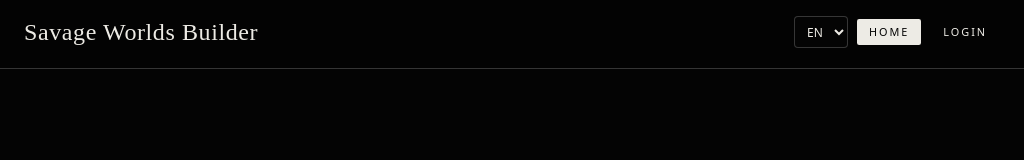
it: AppShell › changes the interface language and persists the selection
The image size is (1024, 160).
Step 1. Select "PL" in the dropdown named "language" → coordinates (821, 32), box x1=794 y1=16 x2=848 y2=48
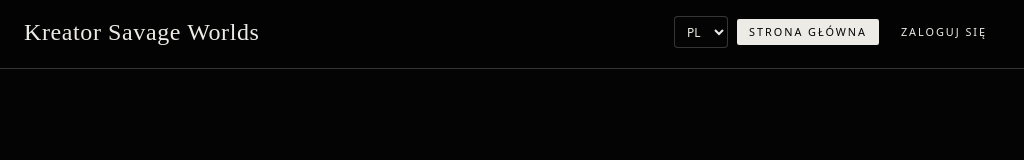
Now the link "Strona główna" is shown, box x1=736 y1=18 x2=880 y2=46
